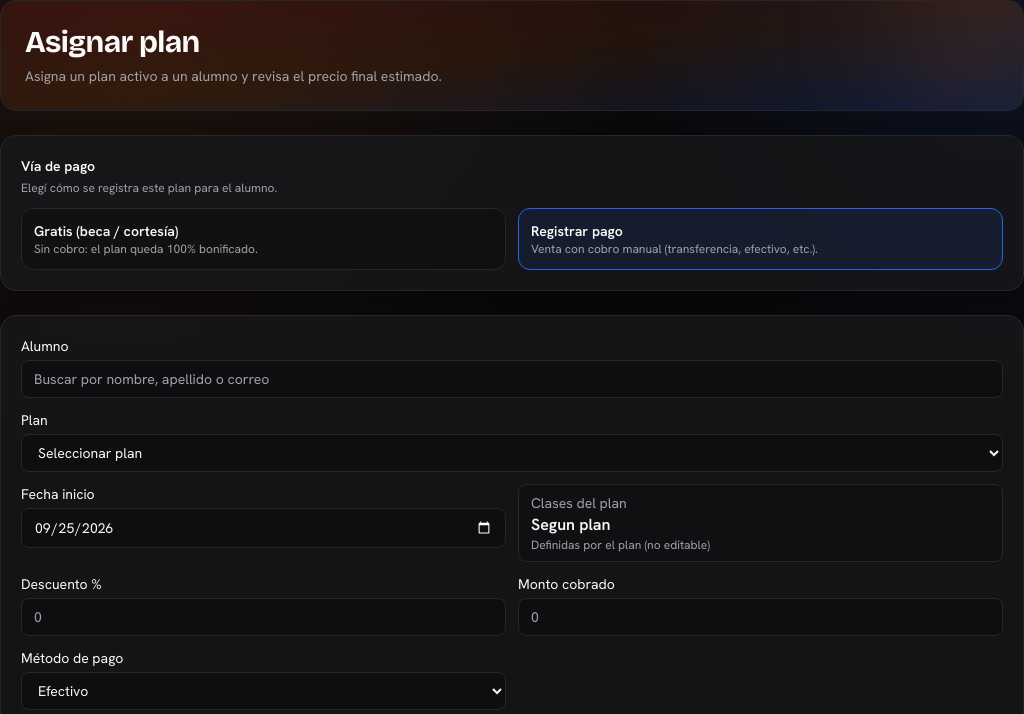
AssignPlanPage - buscador de alumnos › no consulta alumnos con menos de dos caracteres
This screenshot has width=1024, height=714.
In the search field labelled "Alumno": (512, 379) [21,360,1003,398], type "J"
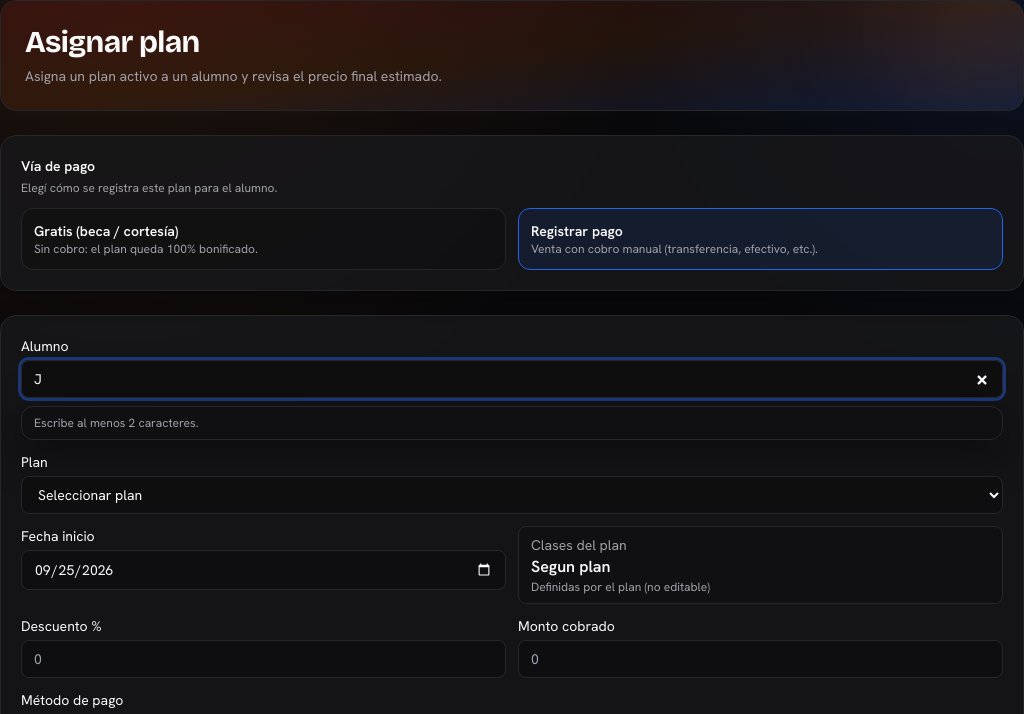
expect the text "Escribe al menos 2 caracteres." is shown: met, box [34,415,199,431]
